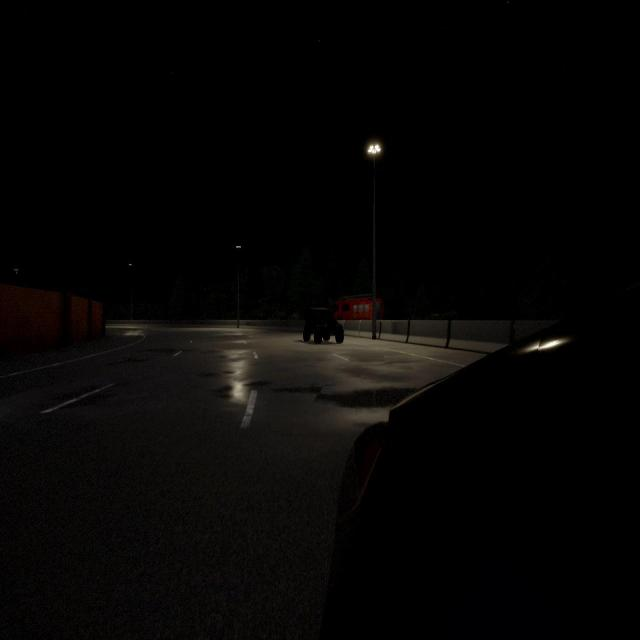Vehicle: (321, 286, 639, 637), (303, 307, 344, 344), (332, 293, 384, 320)
